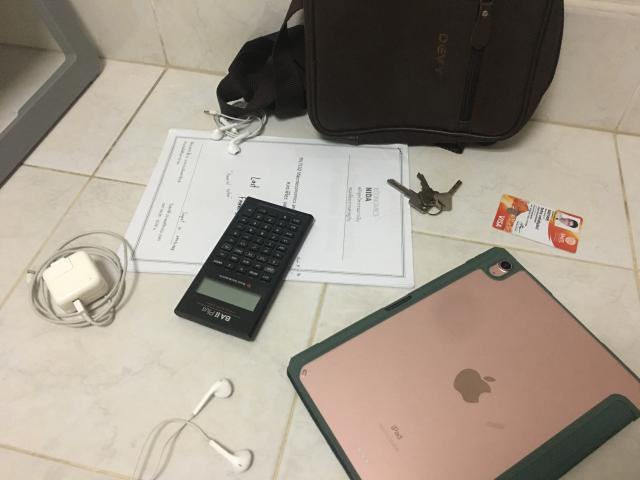Keys: (388, 174, 461, 215)
paper: (125, 129, 414, 288)
wire: (138, 379, 252, 479), (28, 230, 128, 328), (204, 110, 266, 155)
